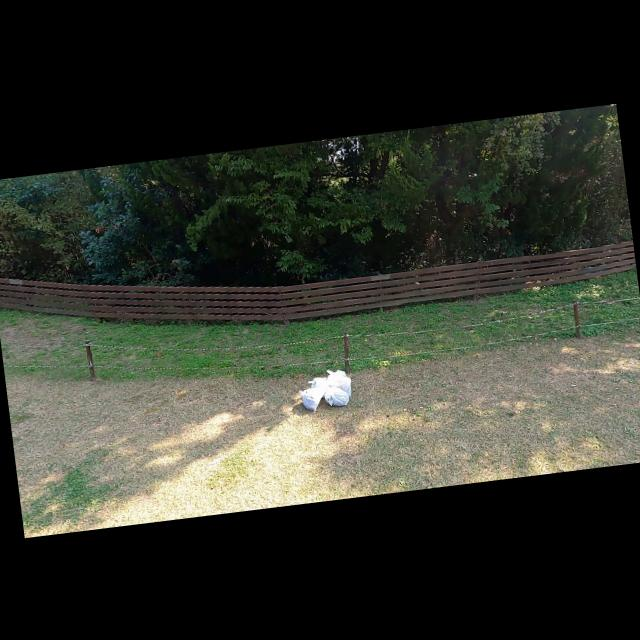trash: (298, 383, 332, 412), (324, 366, 351, 397), (325, 382, 349, 407), (306, 375, 327, 391)
